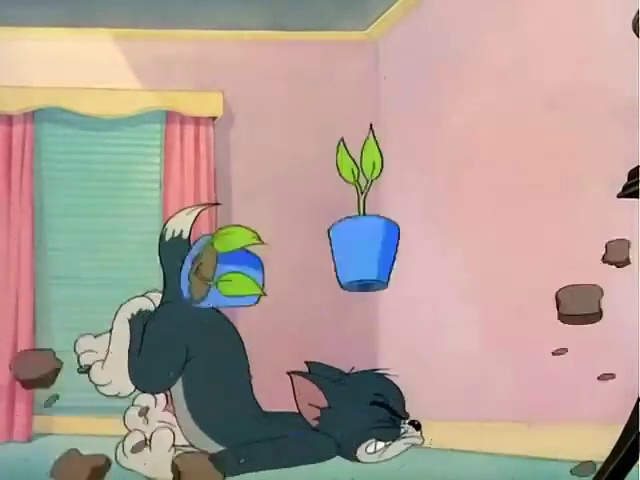tom: (58, 193, 457, 474)
